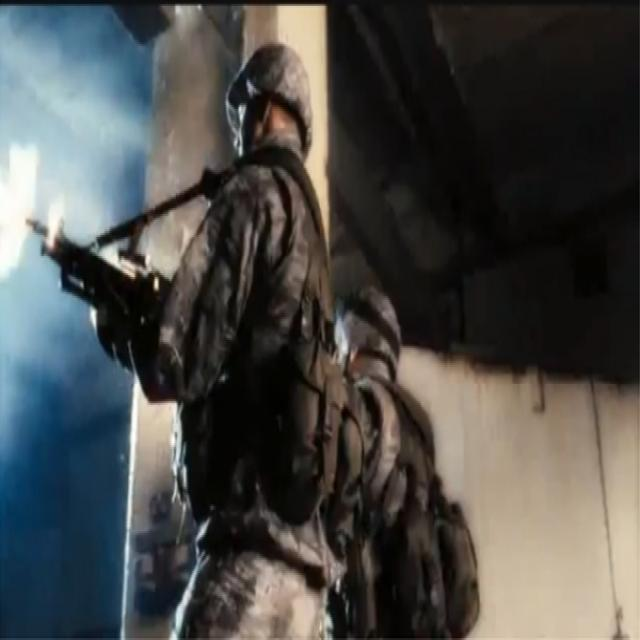rifle: (25, 210, 166, 400)
